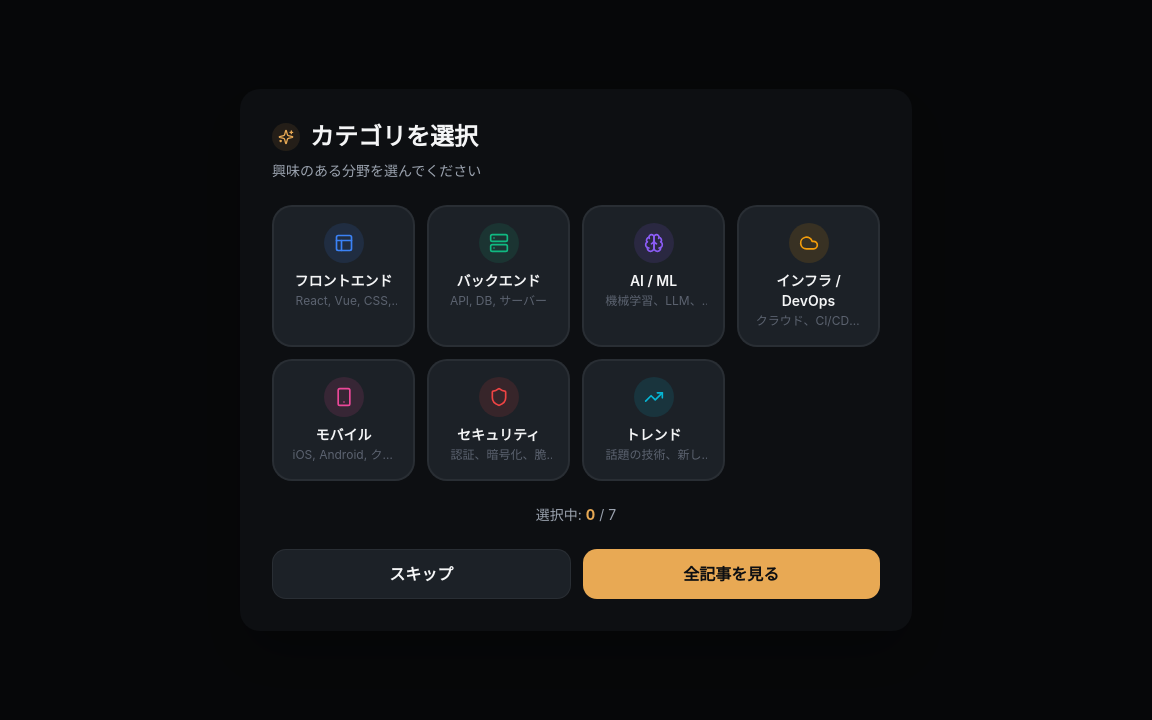
Test: CategorySelectionModal › カテゴリ選択 › 複数カテゴリを選択した場合 › 選択数が正しく表示されること
This screenshot has width=1152, height=720.
Click the text "フロントエンド" at (344, 281), box [290,271,397,291]
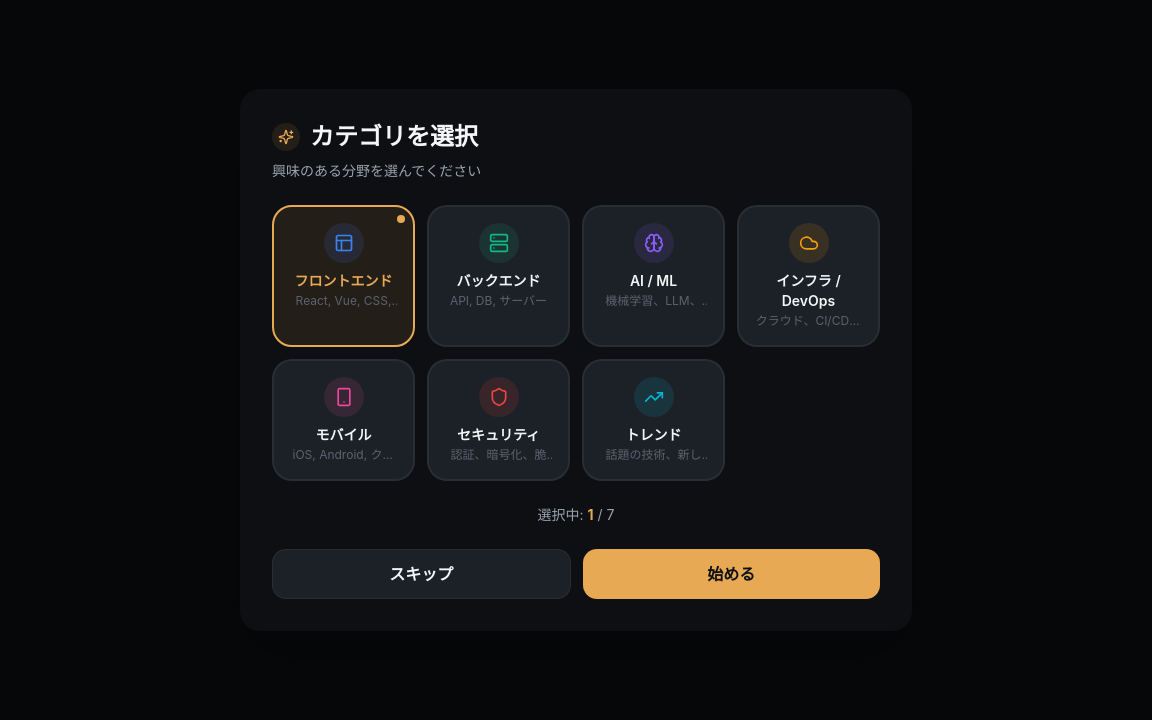
Click the text "バックエンド" at (498, 281), box [450,271,547,291]
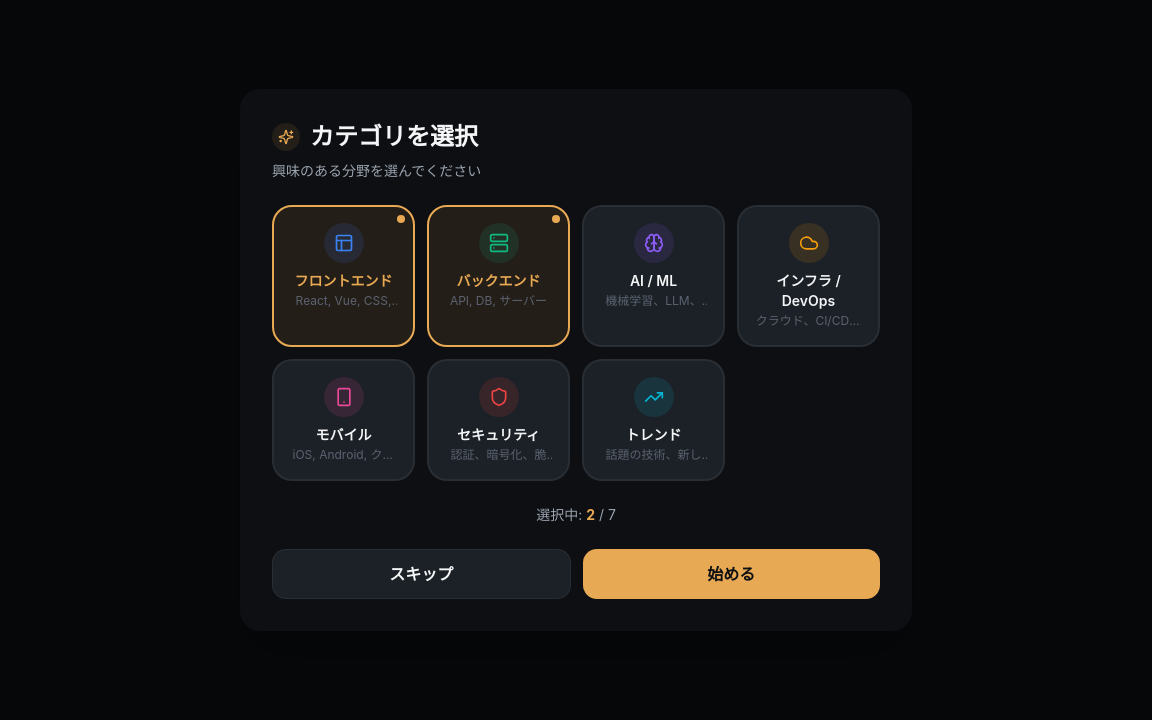
Click the text "AI / ML" at (654, 280), box [630,272,677,289]
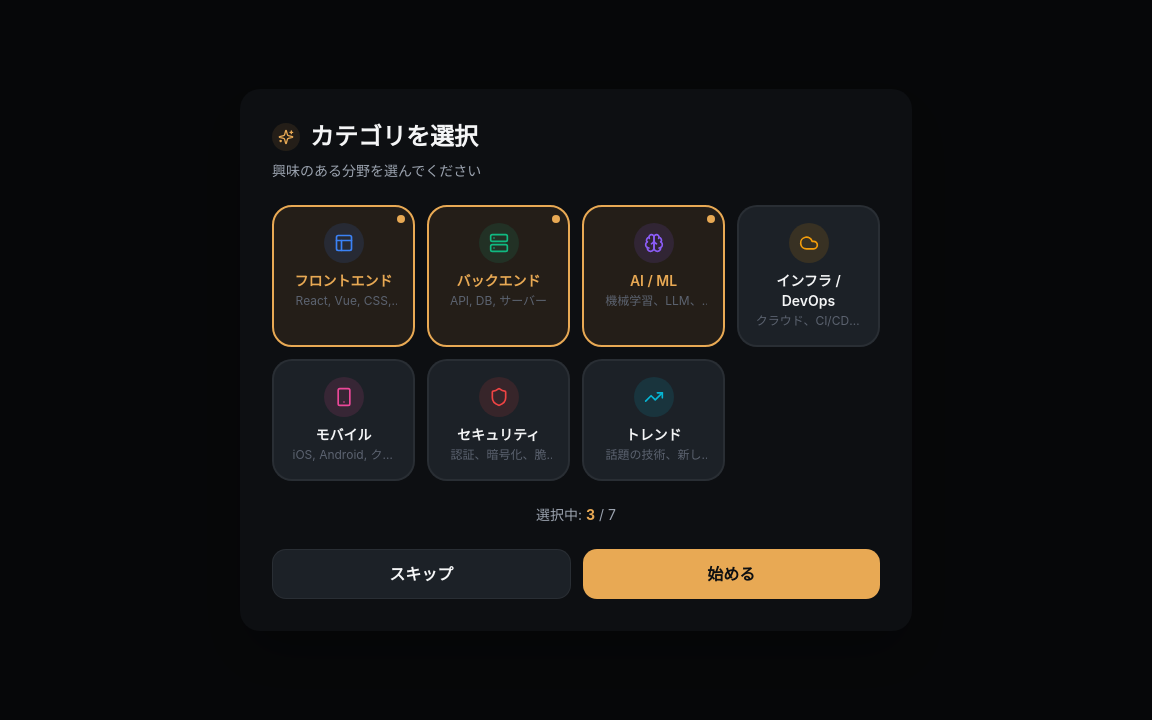
Expected: the text "選択中: 3 / 7" is shown, [536,505,616,525]
